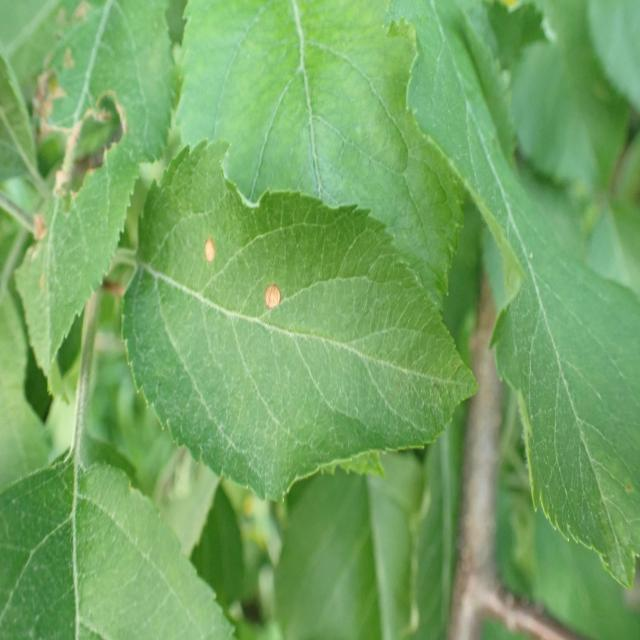Black Rot: (10, 0, 145, 246), (254, 265, 294, 347), (185, 204, 222, 278)
